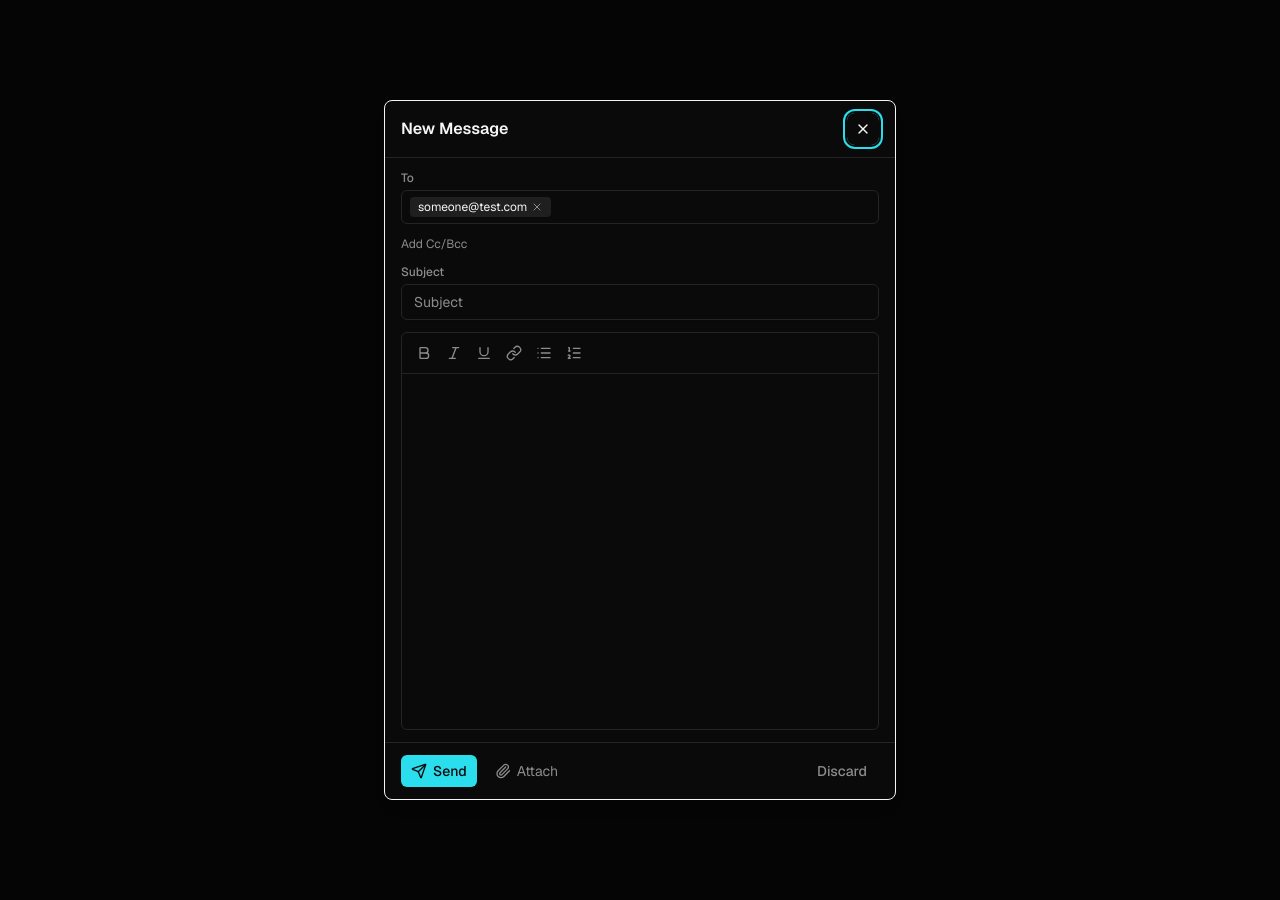
Test: ComposeDialog › shows discard confirmation when closing with content
Click the button named "Close compose" at (863, 129), box [847,113,879,145]
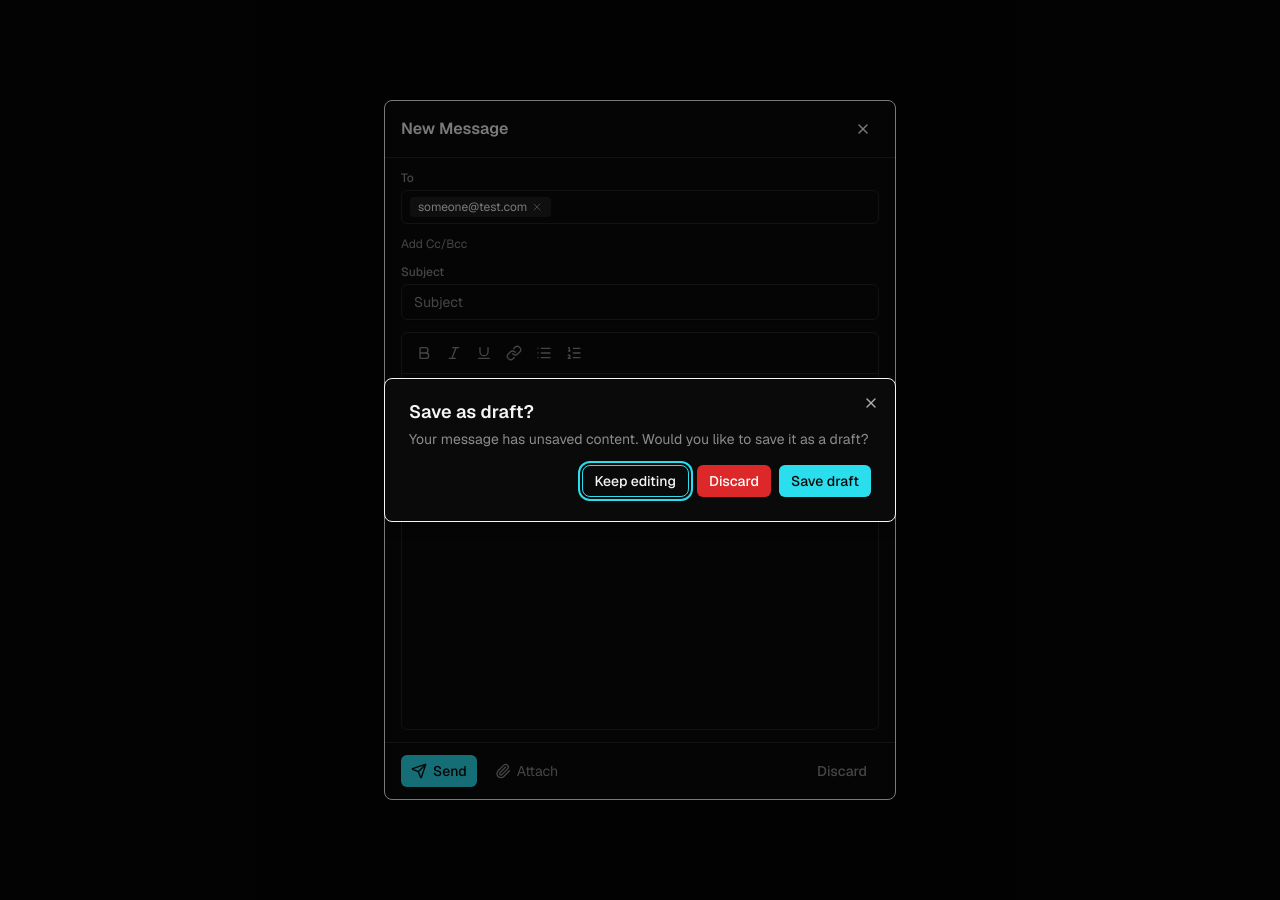
Expected: the heading "Save as draft?" is shown, [409,400,534,423]
